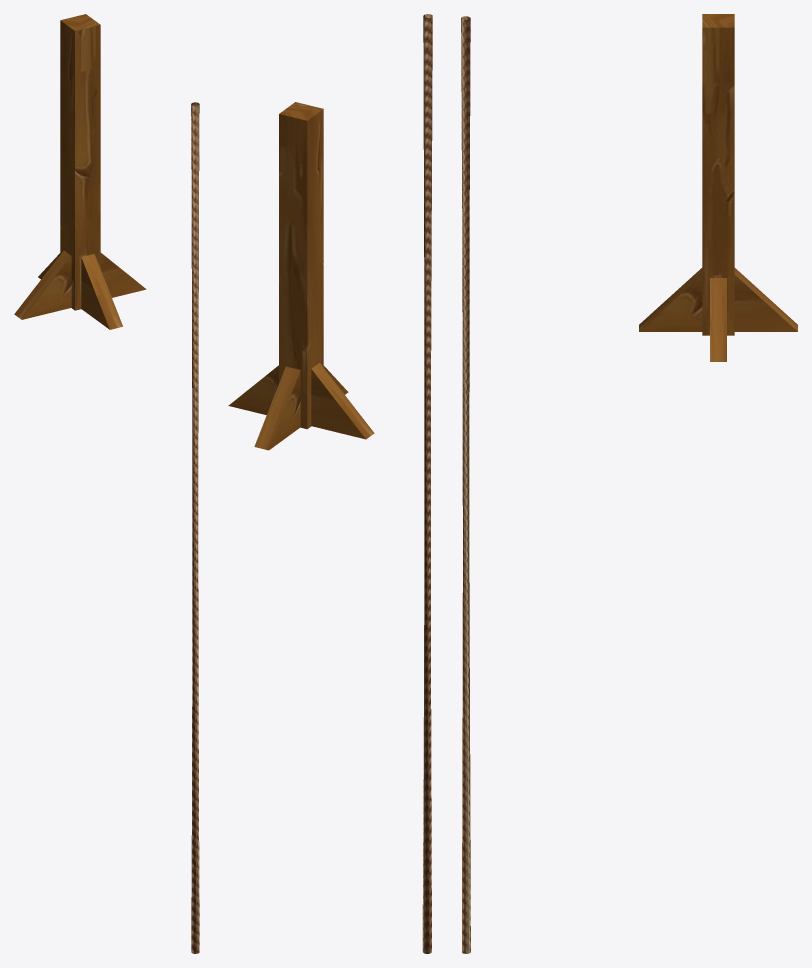
The model's file is Tirolesa.fbx.
3 renders of one model, left to right at view 1: azimuth 30°, elevation 25°; view 2: azimuth 150°, elevation 25°; view 3: azimuth 270°, elevation 25°, orthographic. The views are drawn at different scales.
Parts seen in each view (by area): view 1: Mecanismo, Corda; view 2: Mecanismo, Corda; view 3: Mecanismo, Corda.
Part boxes in pixels (x1=…): Mecanismo: x1=14, y1=14, x2=146, y2=329; Corda: x1=191, y1=102, x2=199, y2=953; Mecanismo: x1=228, y1=102, x2=374, y2=450; Corda: x1=422, y1=14, x2=432, y2=953; Mecanismo: x1=639, y1=14, x2=797, y2=361; Corda: x1=461, y1=16, x2=470, y2=953.
Size of the model in its own units: 236 by 1530 by 500.
